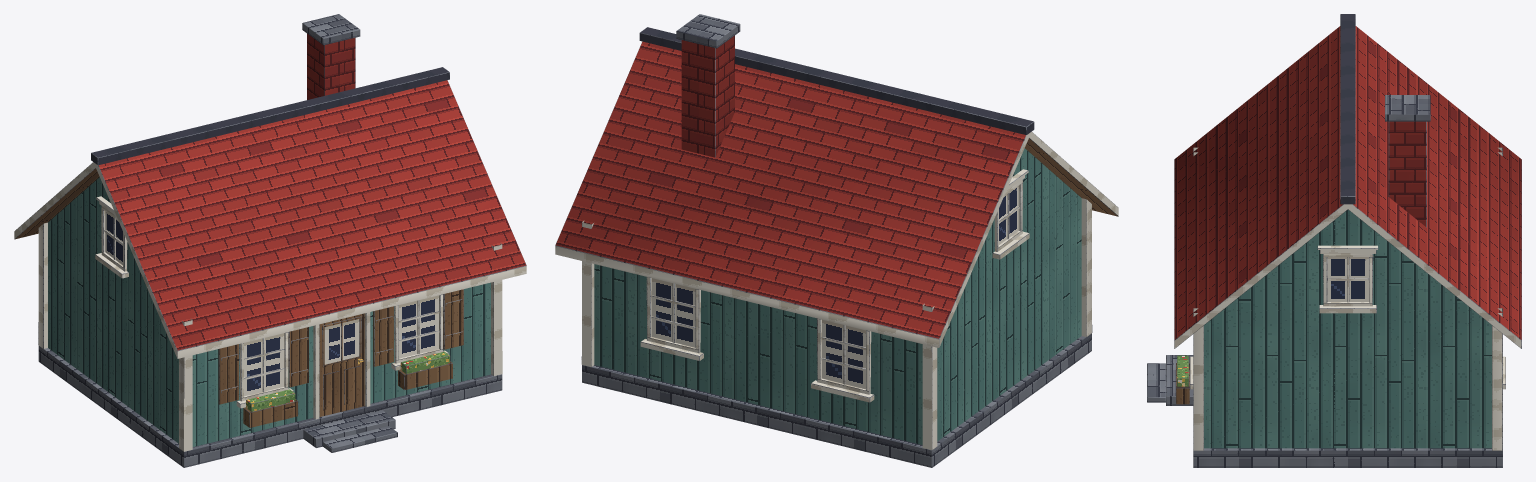
The model's file is town_house_12.glb.
3 views of the same model, side by side, from view 1: azimuth 30°, elevation 25°; view 2: azimuth 150°, elevation 25°; view 3: azimuth 270°, elevation 25° (orthographic). The views are drawn at different scales.
Parts seen in each view (by area): view 1: town_house_13; view 2: town_house_13; view 3: town_house_13.
Part boxes in pixels (x1,y1,x2,y2): town_house_13: (14, 14, 526, 467); town_house_13: (555, 14, 1118, 467); town_house_13: (1147, 14, 1521, 467).
Bounding box in the file's own units: 7.96 × 6.64 × 6.9.
Materials: 12 (12 with a texture image).
